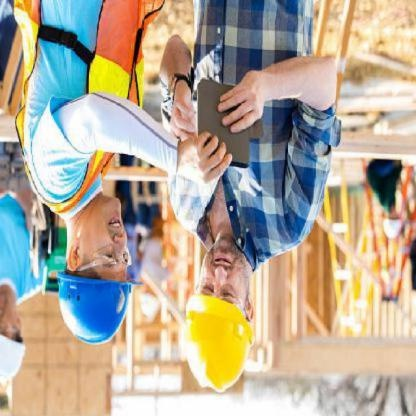blue: (49, 266, 148, 350)
vest: (8, 2, 161, 214)
yellow: (179, 293, 257, 394)
